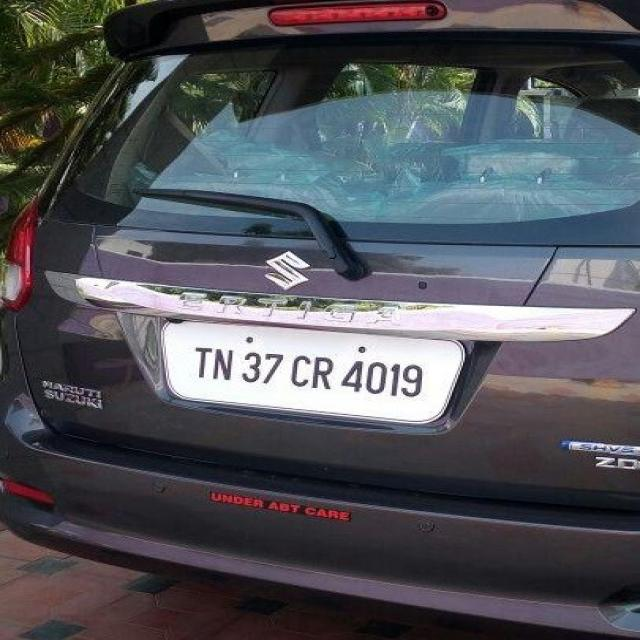license-plate: (158, 315, 465, 423)
